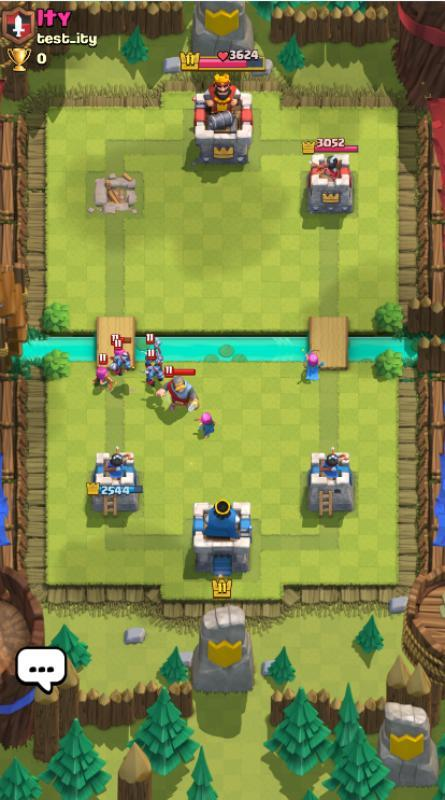archere: (91, 353, 118, 392), (109, 334, 135, 374), (301, 347, 325, 381), (194, 411, 217, 439)
chevalier: (155, 365, 200, 412)
gargouille: (141, 350, 164, 386), (110, 339, 131, 372)
